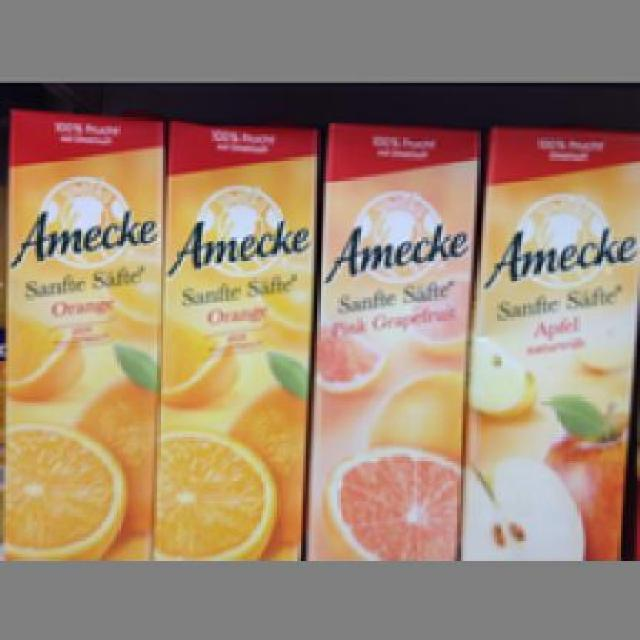Juice: (297, 120, 483, 554), (457, 120, 637, 554), (148, 115, 312, 554), (0, 100, 157, 557)
